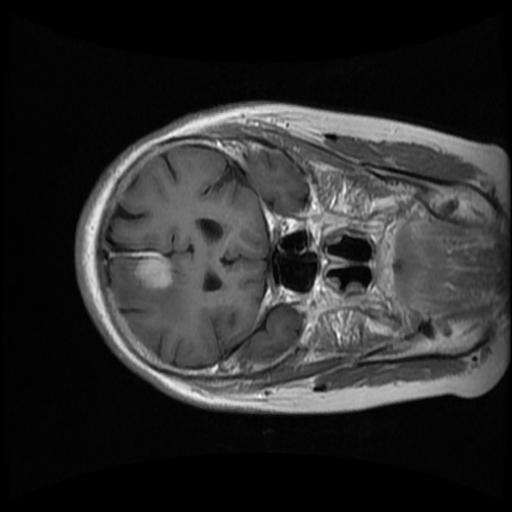meningioma: (111, 248, 186, 319)
